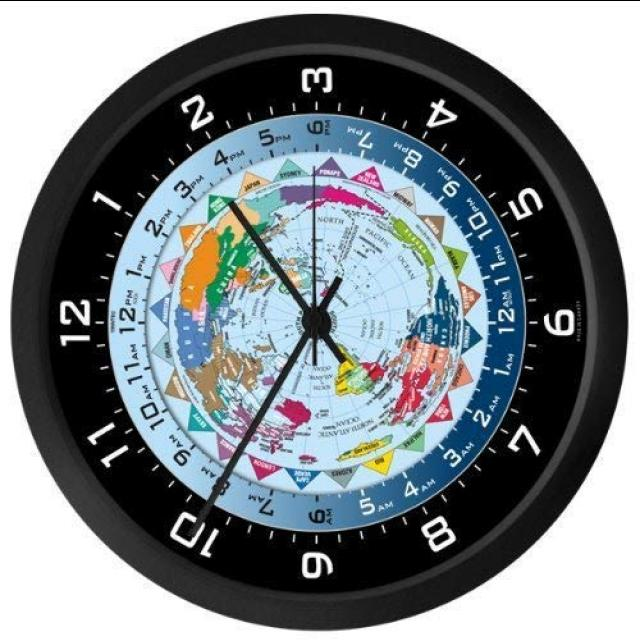clock: (279, 0, 640, 640)
